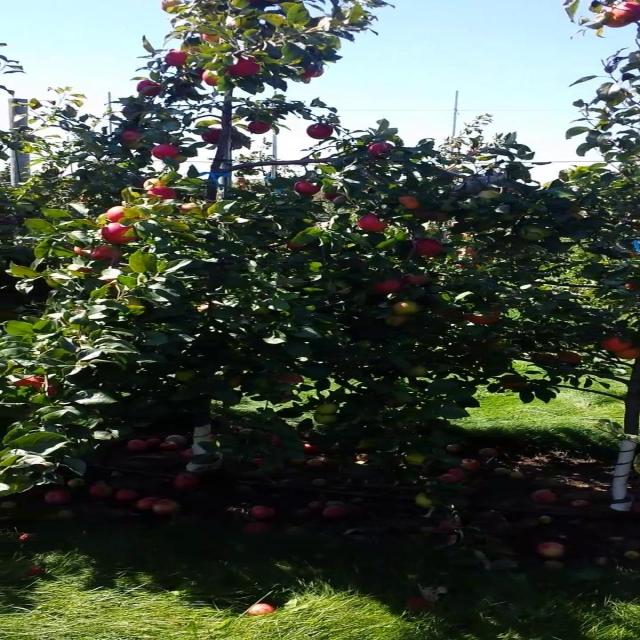apple: (106, 224, 140, 244), (227, 60, 263, 77), (468, 308, 503, 325), (604, 8, 633, 28), (92, 248, 124, 264), (390, 300, 421, 316), (13, 376, 44, 392), (362, 216, 391, 232), (35, 380, 59, 397), (376, 280, 405, 294), (419, 240, 443, 256), (141, 80, 164, 96), (369, 144, 395, 158), (148, 188, 178, 200), (504, 376, 528, 391), (312, 124, 334, 140), (298, 180, 320, 196), (106, 208, 128, 224), (156, 144, 178, 160), (604, 340, 633, 352), (170, 52, 190, 68), (525, 228, 549, 241), (404, 452, 427, 465), (404, 368, 432, 378), (205, 128, 222, 144), (248, 124, 270, 136), (561, 352, 583, 364), (312, 416, 341, 425), (618, 348, 639, 360), (625, 4, 639, 22), (319, 404, 341, 415), (177, 372, 199, 383), (305, 68, 327, 79), (205, 72, 220, 88), (483, 188, 503, 200), (404, 196, 421, 210), (497, 212, 523, 221), (390, 316, 411, 327), (433, 212, 453, 223), (141, 180, 164, 189), (419, 496, 436, 508), (227, 376, 244, 388), (170, 152, 187, 164), (120, 132, 142, 141), (404, 276, 428, 284), (284, 376, 306, 384), (198, 304, 220, 312), (412, 212, 434, 219), (326, 192, 343, 201), (390, 400, 407, 408), (461, 248, 476, 257), (205, 36, 220, 44), (291, 244, 306, 252), (184, 204, 199, 212), (163, 4, 178, 12), (77, 248, 91, 256), (625, 284, 639, 292), (163, 4, 176, 11), (127, 144, 142, 150), (77, 268, 94, 273), (540, 356, 555, 361)
